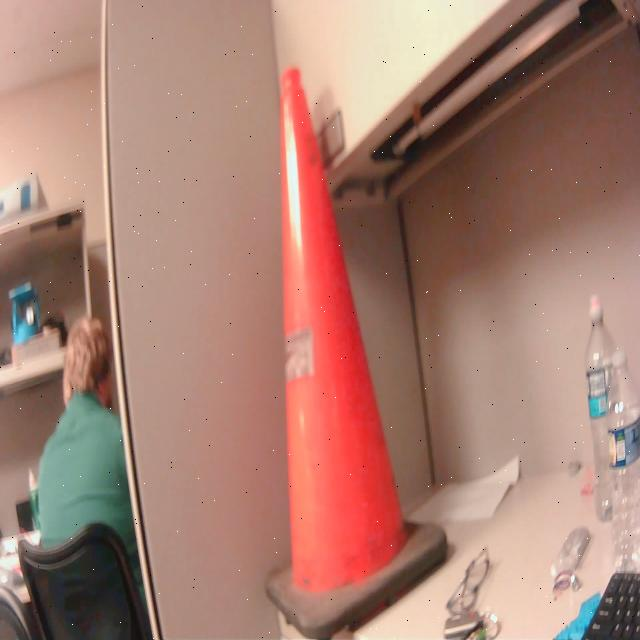traffic cone: (260, 62, 454, 640)
